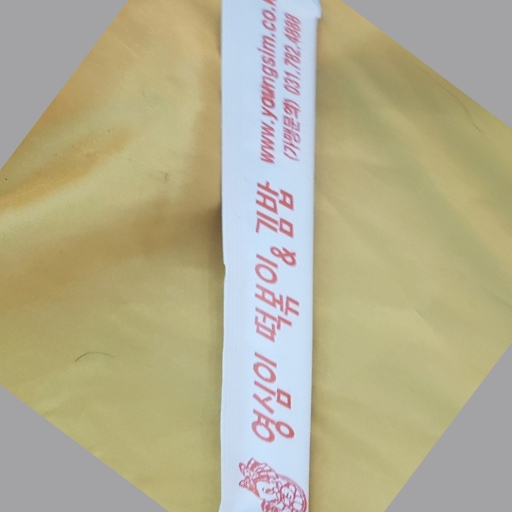Paper_2: (217, 1, 320, 512)
